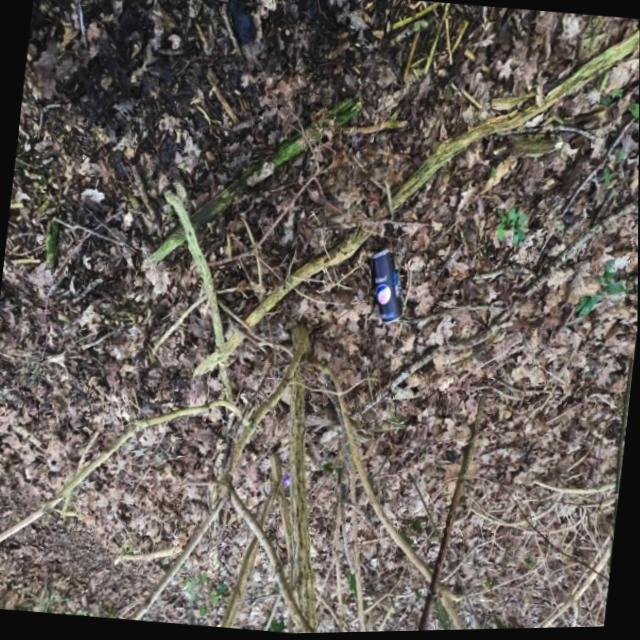Can-Metal: (360, 244, 411, 329)
